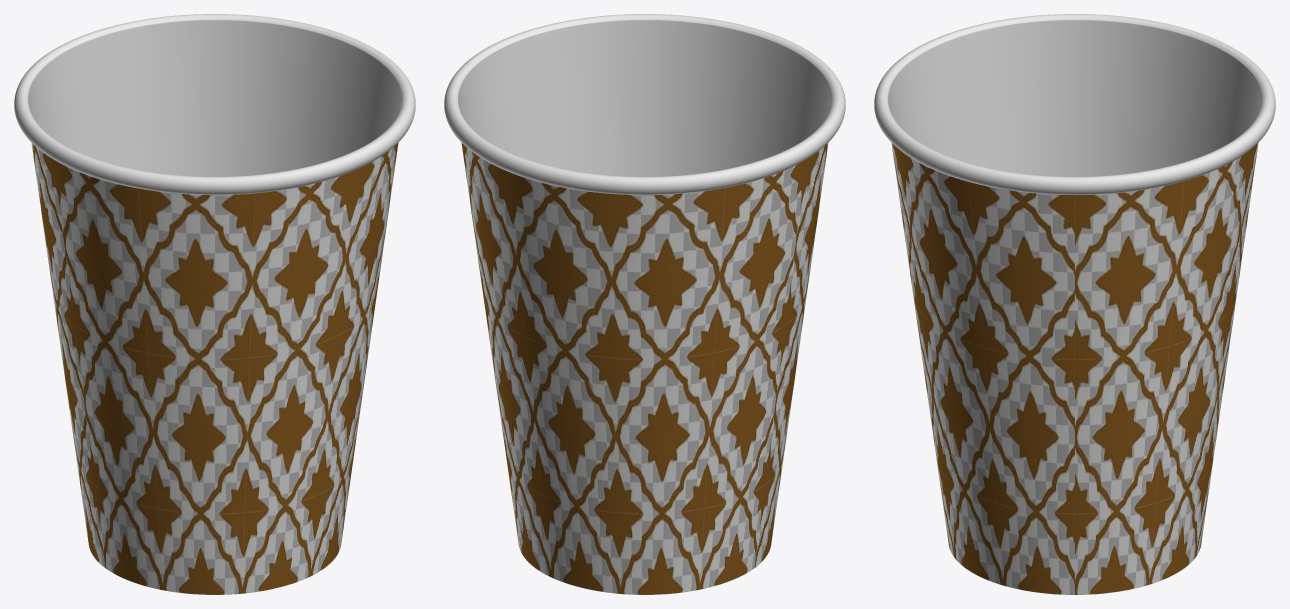
3 views of the same model, side by side, from view 1: azimuth 30°, elevation 25°; view 2: azimuth 150°, elevation 25°; view 3: azimuth 270°, elevation 25° (orthographic).
Visible parts, largest first — view 1: Part 1, Part 2; view 2: Part 1, Part 2; view 3: Part 1, Part 2.
Boxes of the visible parts, <box> form: Part 1: <box>31,143,398,594</box>; Part 2: <box>14,14,415,194</box>; Part 1: <box>461,143,828,594</box>; Part 2: <box>444,14,845,194</box>; Part 1: <box>891,143,1258,594</box>; Part 2: <box>874,14,1275,194</box>.
Size of the model in its own units: 0.0953 by 0.1166 by 0.0953.
Materials: 2 (1 with a texture image).
